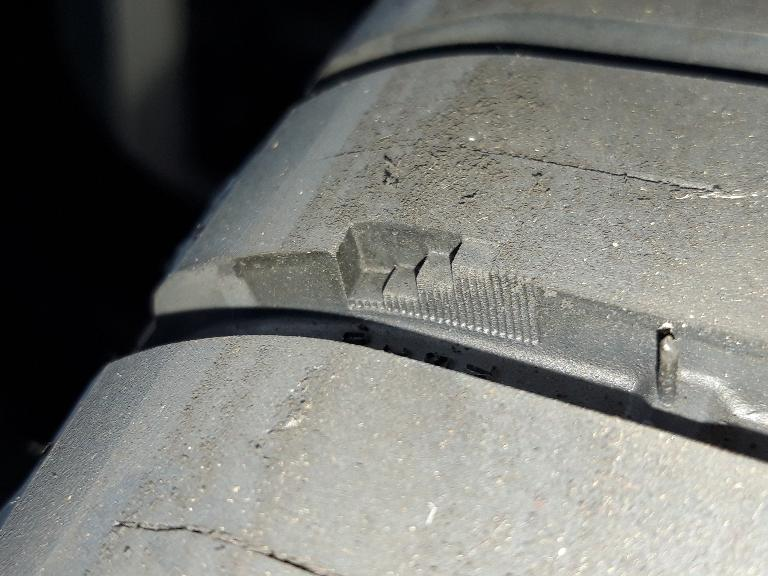temoin:75: (325, 212, 508, 347)
